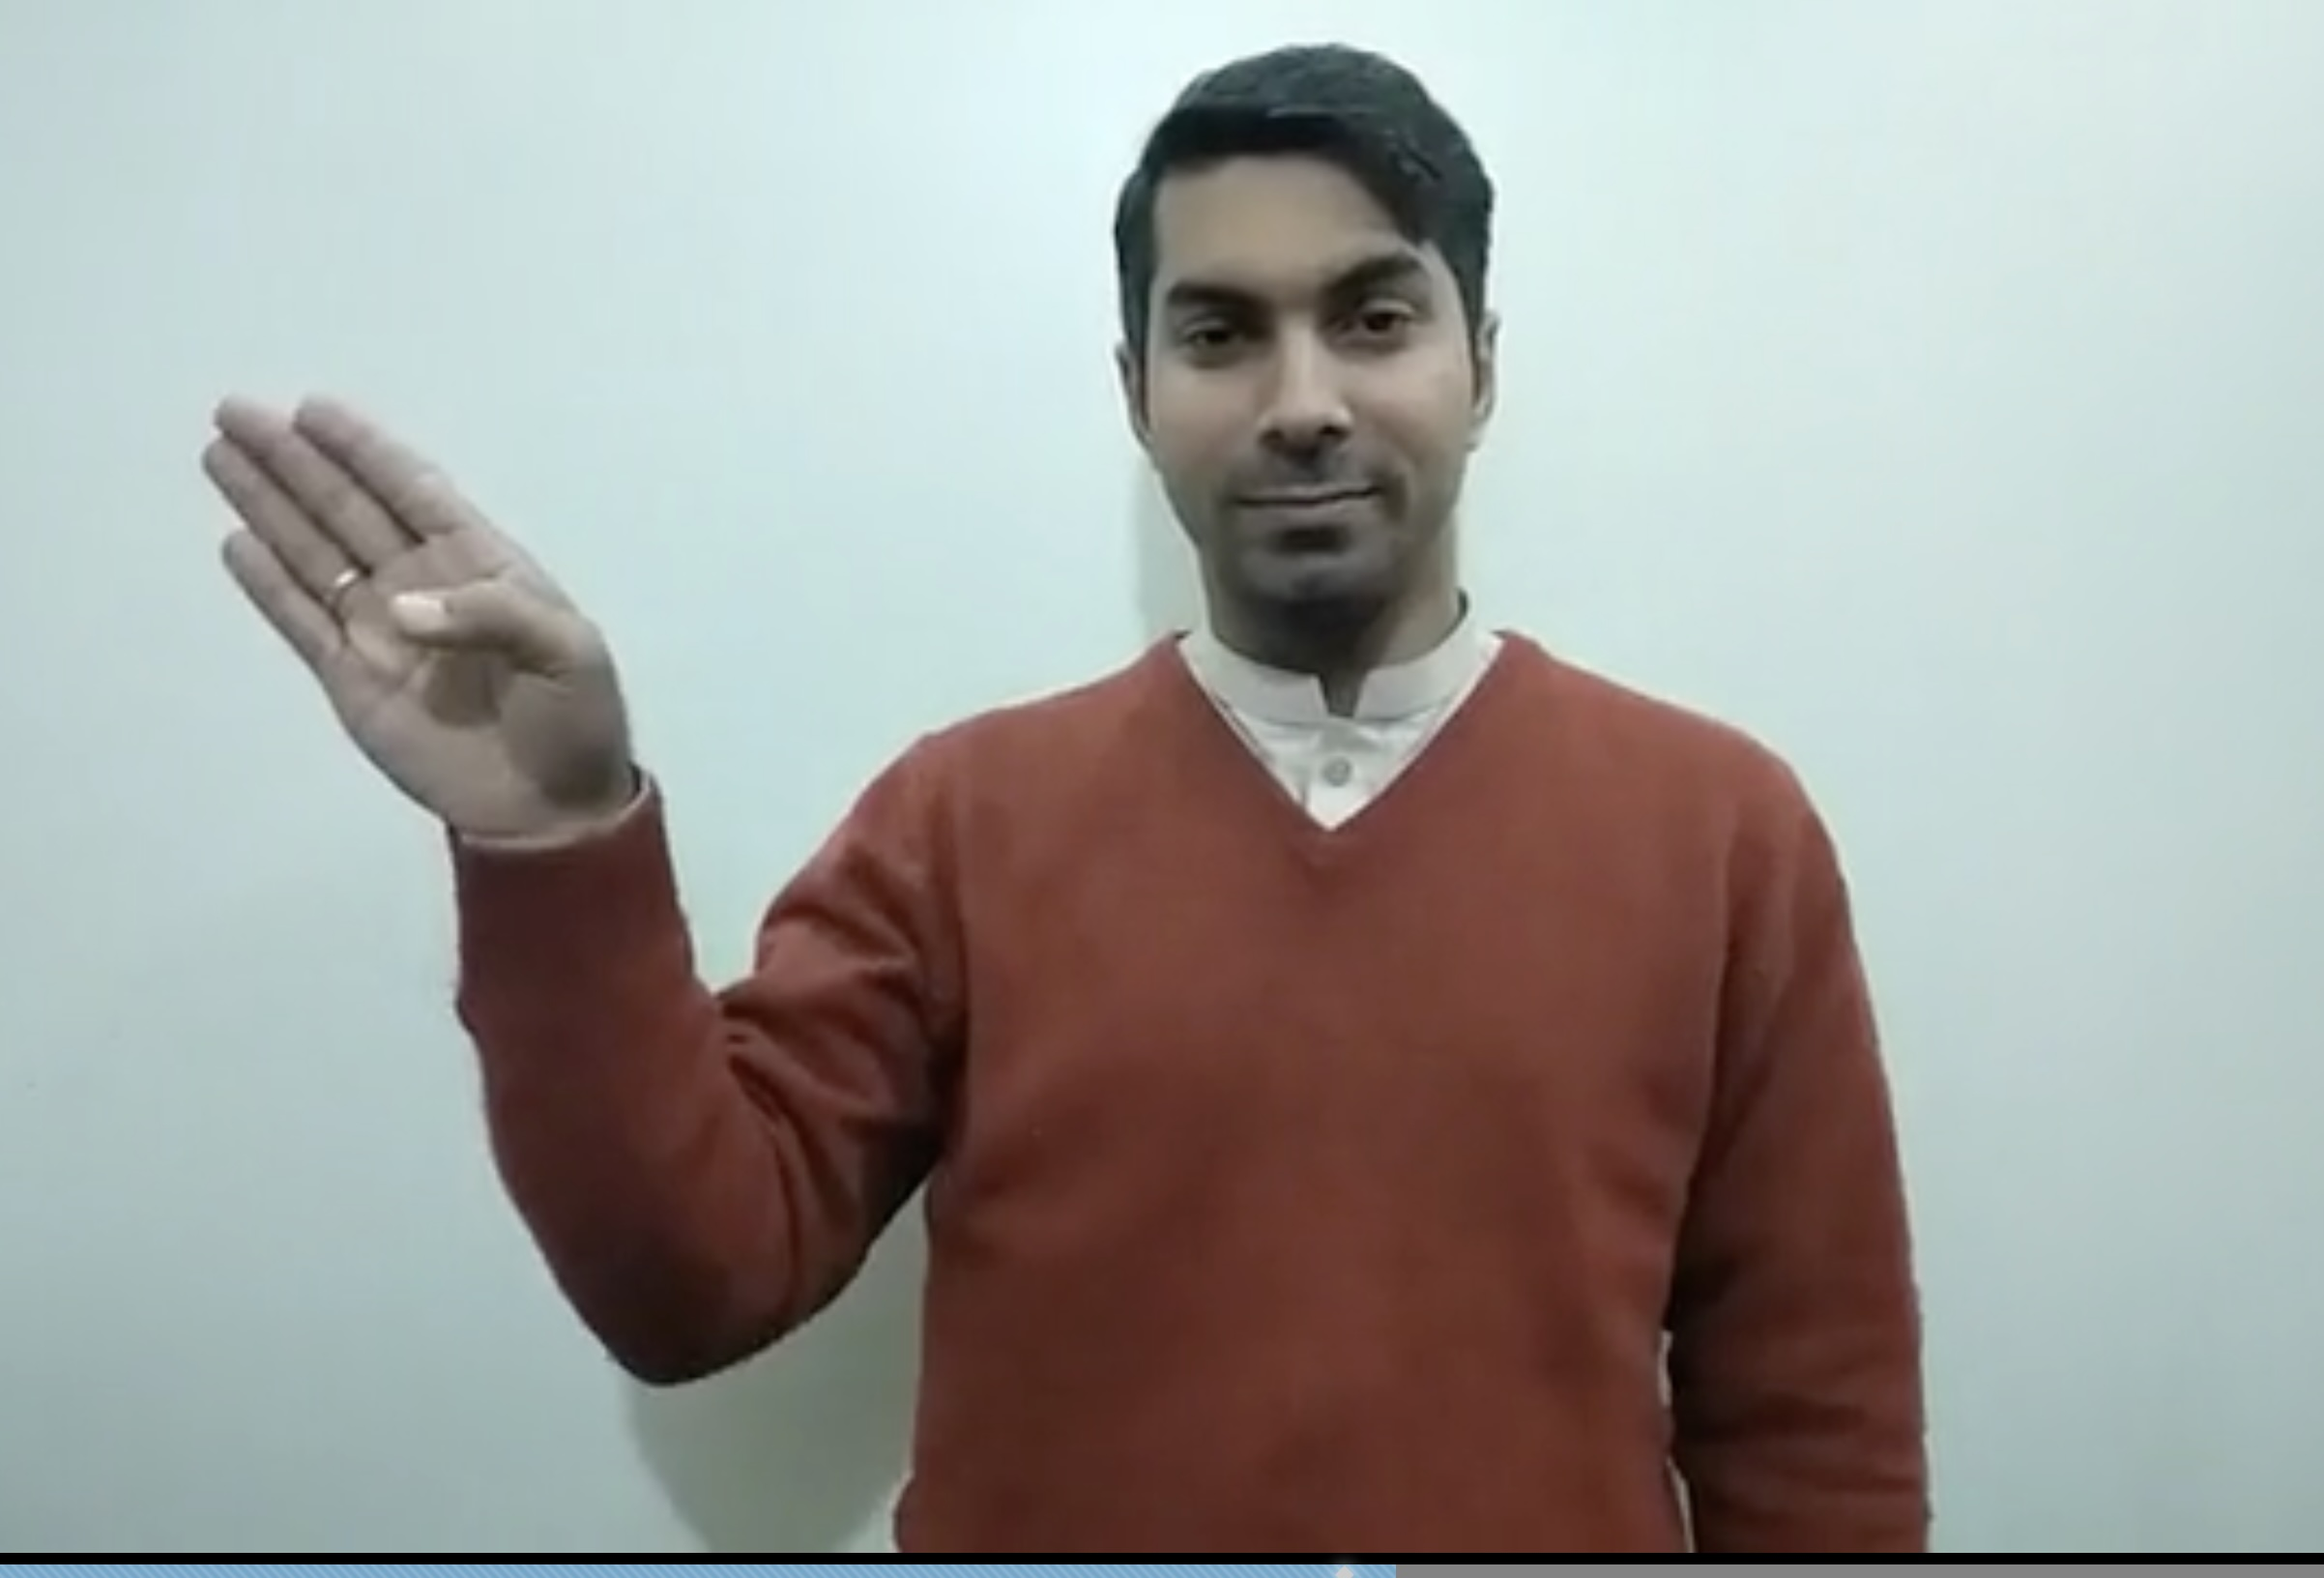hello: (176, 336, 710, 865)
